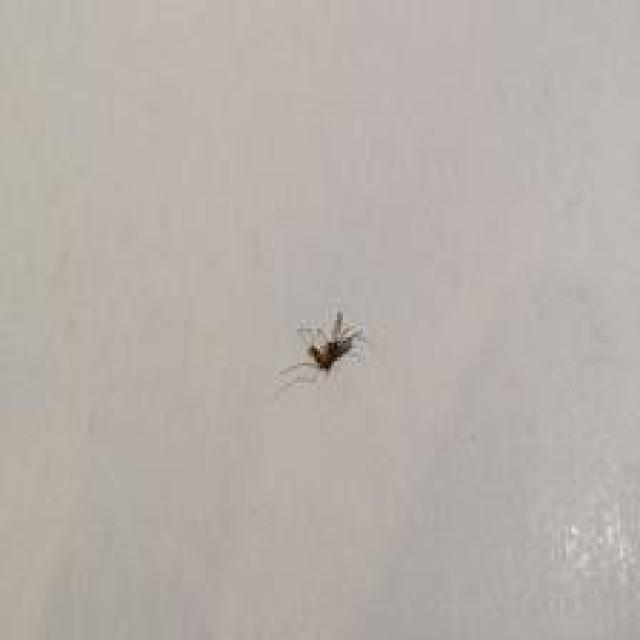Culex: (277, 308, 366, 392)
